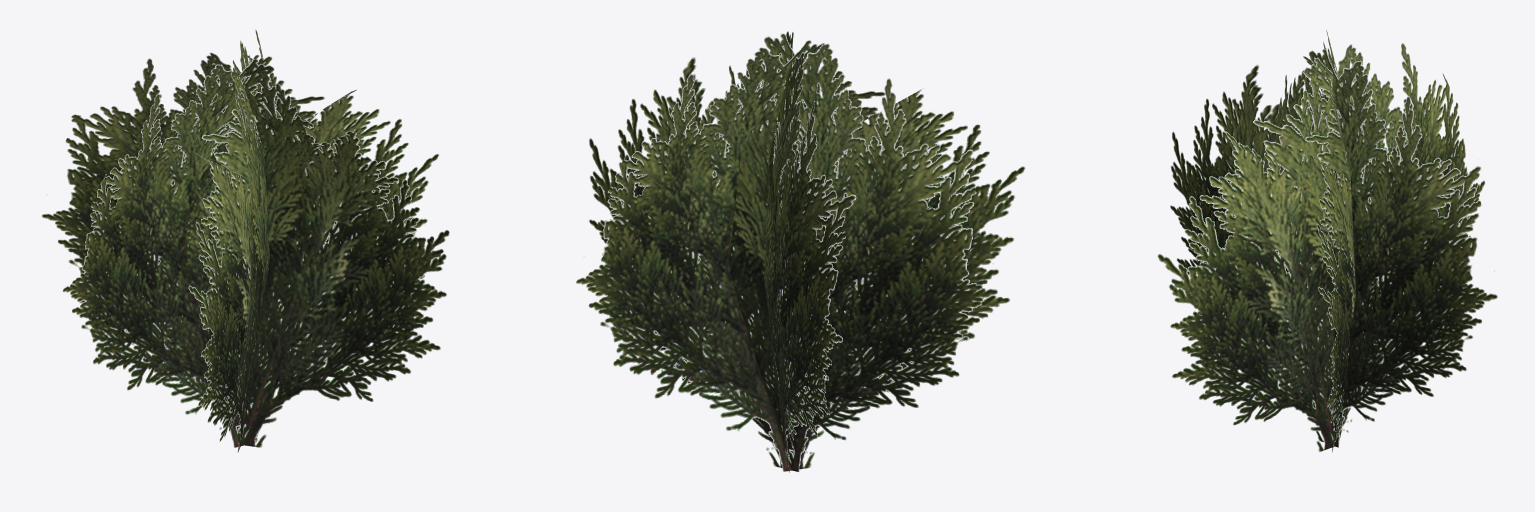
Rendered from zbun.glb.
3 renders of one model, left to right at view 1: azimuth 30°, elevation 25°; view 2: azimuth 150°, elevation 25°; view 3: azimuth 270°, elevation 25°, orthographic. The views are drawn at different scales.
Parts seen in each view (by area): view 1: Bush_1_Plants:aiStandardSurface44_0, Bush_2_Plants:aiStandardSurface44_0; view 2: Bush_1_Plants:aiStandardSurface44_0, Bush_2_Plants:aiStandardSurface44_0; view 3: Bush_1_Plants:aiStandardSurface44_0, Bush_2_Plants:aiStandardSurface44_0.
Part boxes in pixels (bbox=[...]): Bush_1_Plants:aiStandardSurface44_0: bbox=[42, 31, 448, 451]; Bush_2_Plants:aiStandardSurface44_0: bbox=[42, 31, 448, 450]; Bush_1_Plants:aiStandardSurface44_0: bbox=[577, 32, 1024, 471]; Bush_2_Plants:aiStandardSurface44_0: bbox=[577, 32, 1024, 471]; Bush_1_Plants:aiStandardSurface44_0: bbox=[1158, 31, 1496, 451]; Bush_2_Plants:aiStandardSurface44_0: bbox=[1158, 42, 1496, 451].
Size of the model in its own units: 38.34 by 32.61 by 30.13.
1 material, 1 textured.
